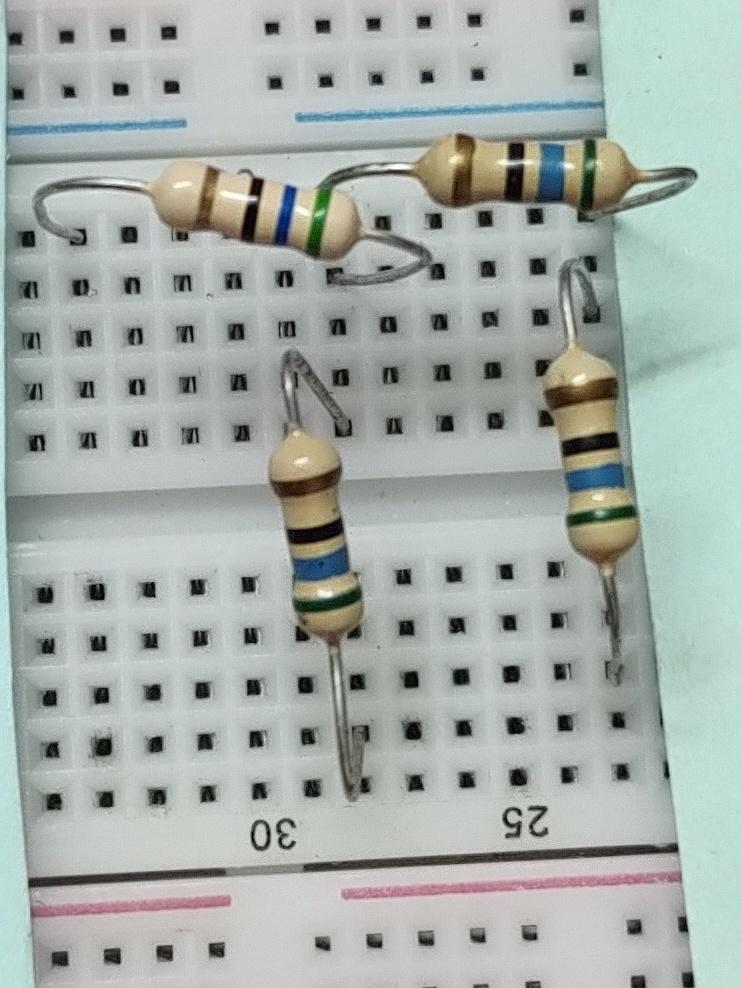resistor: (527, 339, 667, 569), (137, 145, 370, 278), (255, 417, 382, 659), (411, 123, 655, 222)
